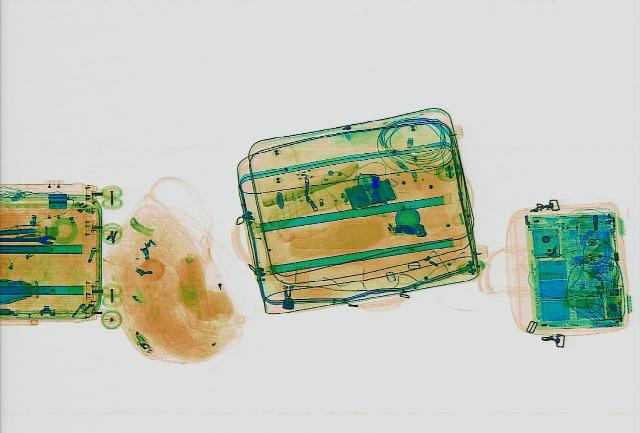Wrench: (3, 231, 57, 245)
